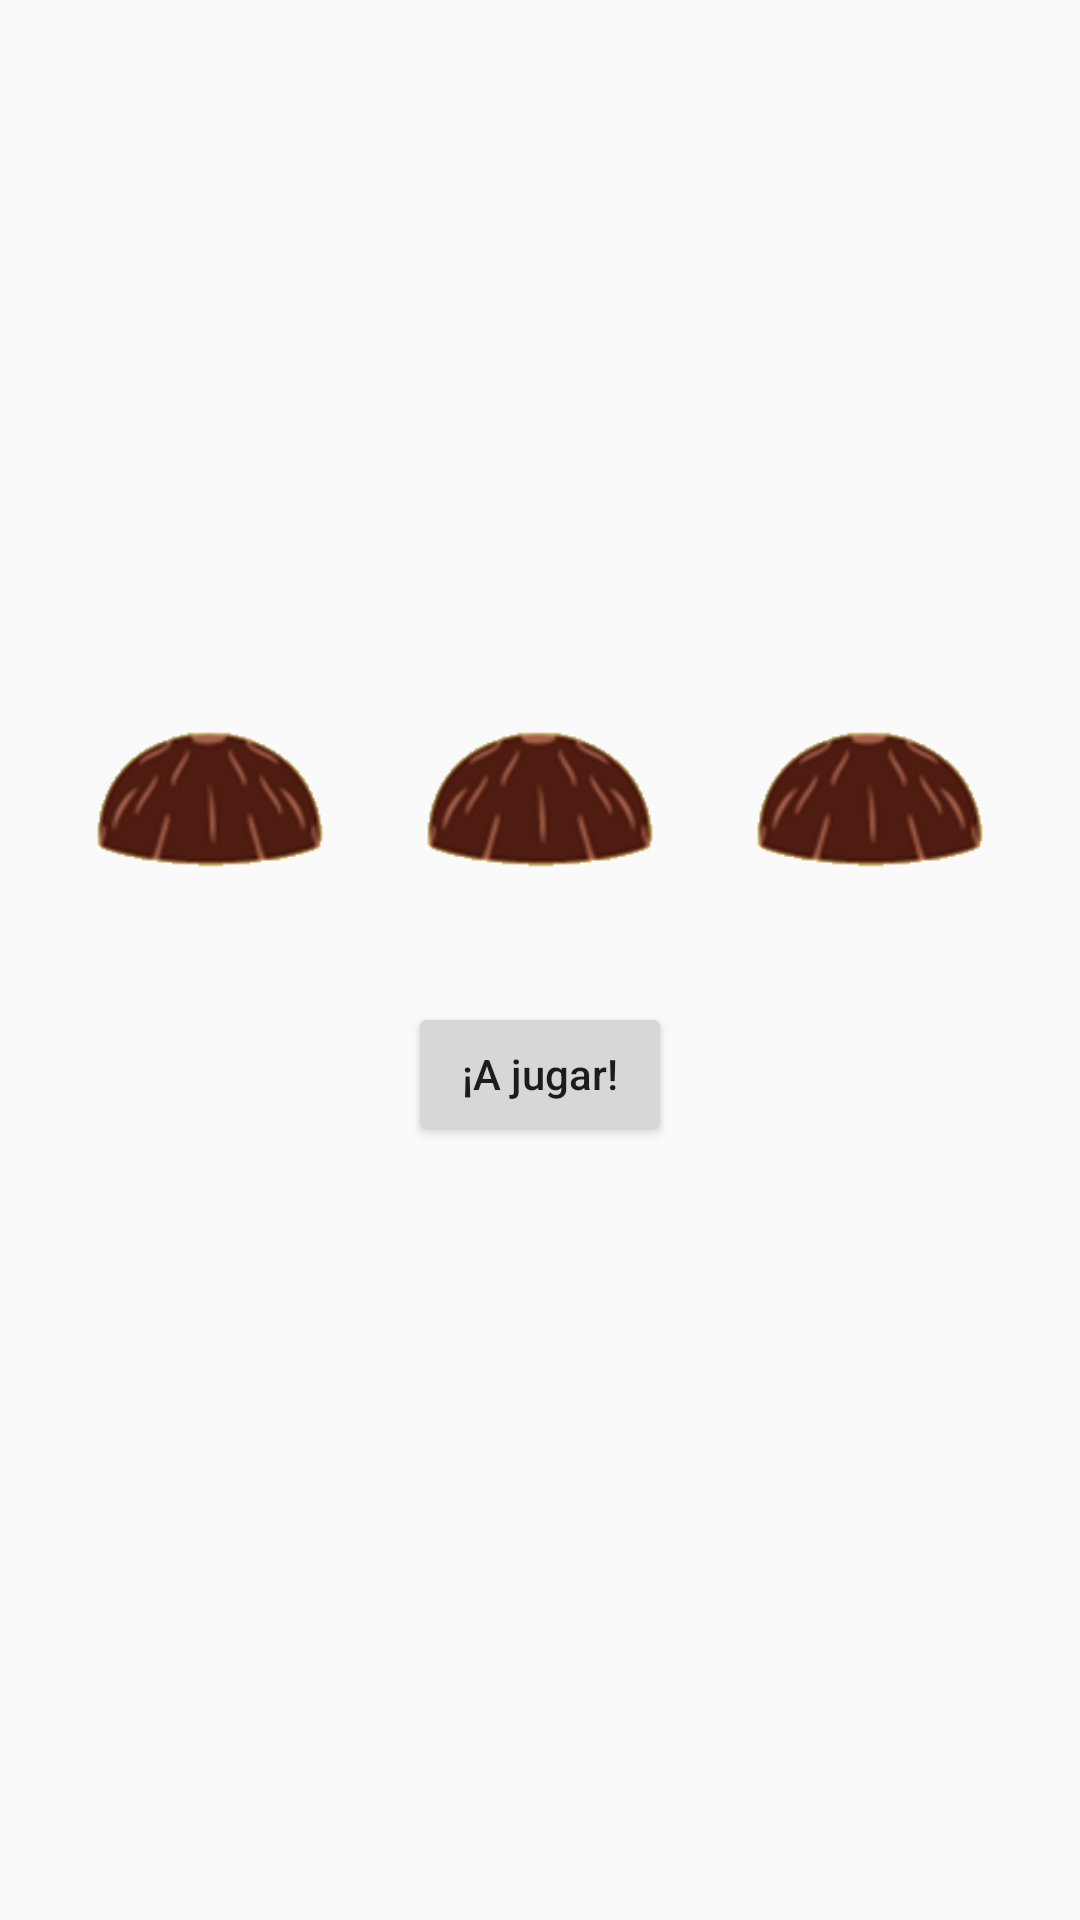

Icon bounding boxes for this 1080 × 1920 phone screenshot, format (x1, y1, x2, y2):
Cubilete 1: (97, 732, 323, 867)
Cubilete 2: (427, 732, 653, 867)
Cubilete 3: (757, 732, 983, 867)
